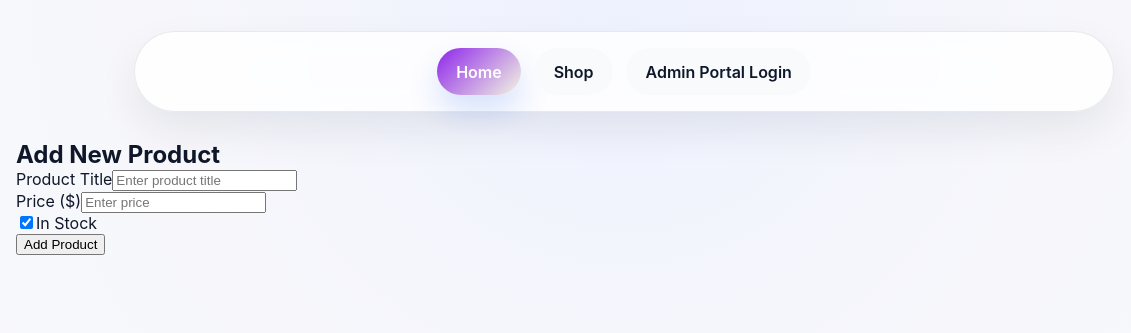
Test: ProductForm › shows validation error when price is invalid
Type "New Fan" into the field labelled "Product Title" at (205, 181), box [112,170,297,191]
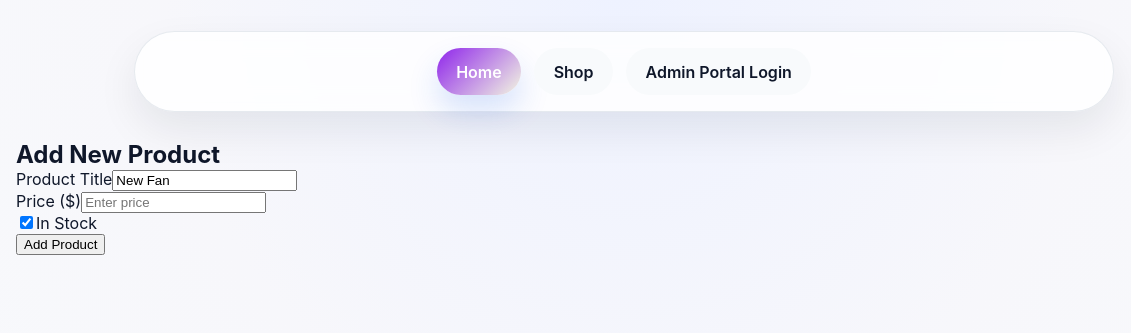
Type "-1" into the number field labelled "Price ($)" at (174, 203), box [81,192,266,213]
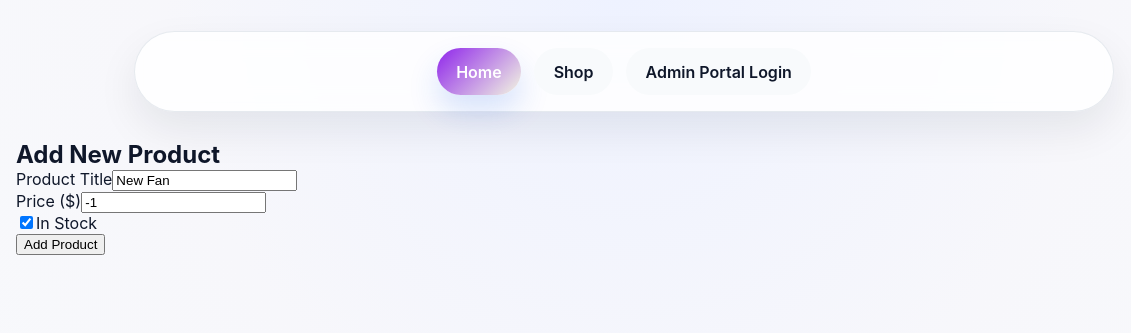
Click the button "Add Product" at (61, 245), box [16,234,105,255]
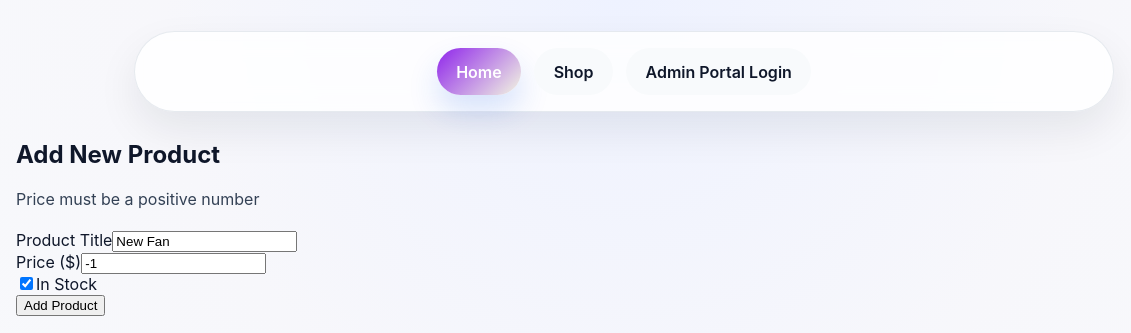
Check: the text "Price must be a positive number" is shown, box [16,189,259,209]
